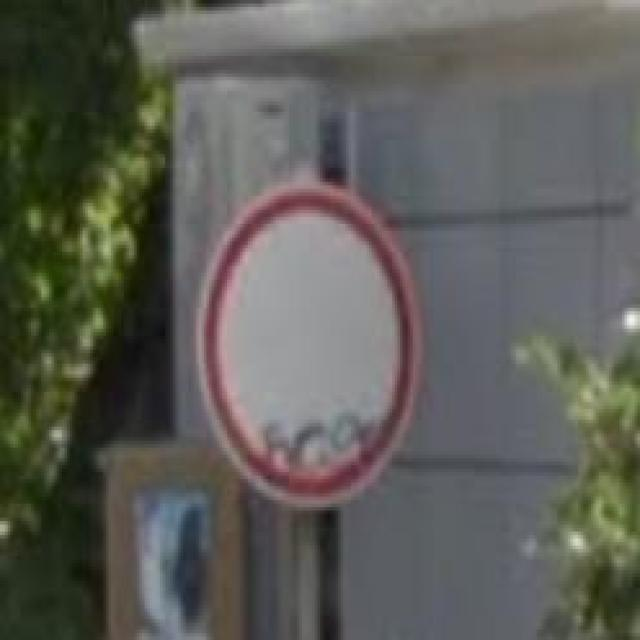traffic_sign: (196, 178, 423, 511)
